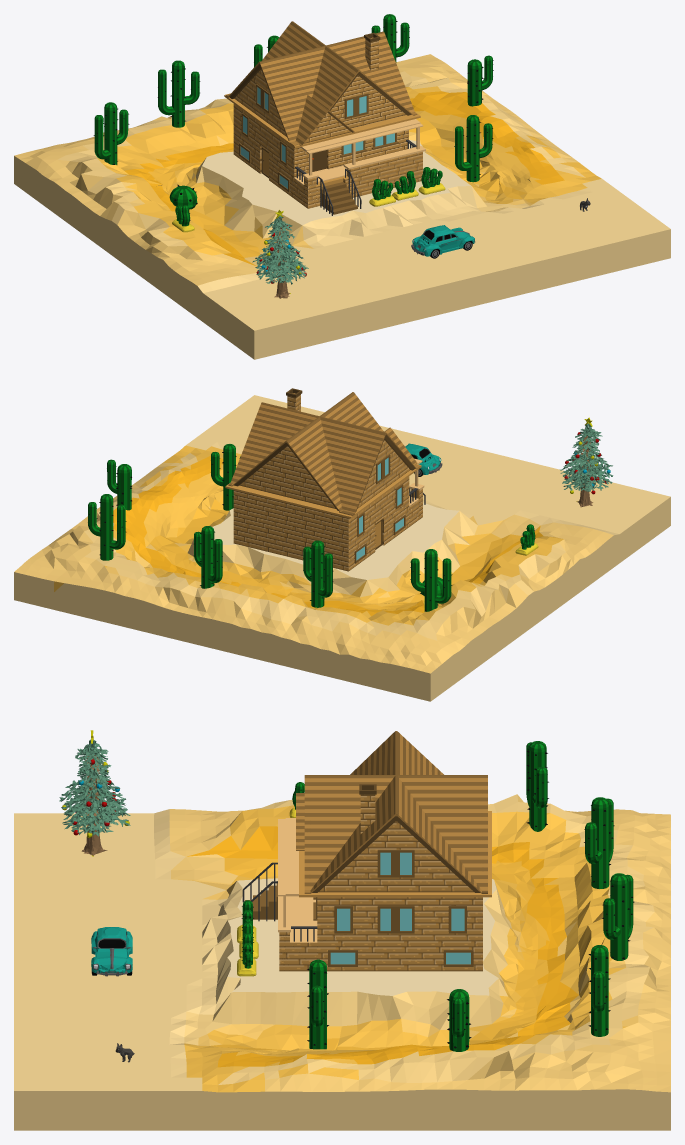
The picture shows the model from 3 angles, top to bottom: view 1: azimuth 30°, elevation 25°; view 2: azimuth 150°, elevation 25°; view 3: azimuth 270°, elevation 25°; orthographic projection. The views are drawn at different scales.
Parts seen in each view (by area): view 1: Cube.001, Cube.508, OBJRANDOM_CHRISTMAS_TREE, Cylinder.037, Cylinder.044, Cylinder.045, VEHICLES_VOLKSWAGEN, Cylinder.038, Cylinder.042, Cylinder.039, Cylinder.041, Sphere.023 (+1 smaller); view 2: Cube.001, Cube.508, OBJRANDOM_CHRISTMAS_TREE, Cylinder.042, Cylinder.045, Cylinder.044, Cylinder.043, Cylinder.037, Cylinder.038, VEHICLES_VOLKSWAGEN; view 3: Cube.001, Cube.508, OBJRANDOM_CHRISTMAS_TREE, Cylinder.043, Cylinder.044, VEHICLES_VOLKSWAGEN, Cylinder.045, Cylinder.042, Cylinder.037, Cylinder.038, Cylinder.041.
Part boxes in pixels (left/top/right/bottom): Cube.001: left=14, top=54, right=670, bottom=359; Cube.508: left=224, top=21, right=425, bottom=215; OBJRANDOM_CHRISTMAS_TREE: left=252, top=210, right=308, bottom=298; Cylinder.037: left=454, top=115, right=493, bottom=182; Cylinder.044: left=157, top=60, right=200, bottom=127; Cylinder.045: left=93, top=102, right=129, bottom=164; VEHICLES_VOLKSWAGEN: left=411, top=225, right=475, bottom=258; Cylinder.038: left=467, top=55, right=493, bottom=106; Cylinder.042: left=371, top=14, right=409, bottom=62; Cylinder.039: left=369, top=179, right=395, bottom=206; Cylinder.041: left=418, top=167, right=445, bottom=194; Sphere.023: left=169, top=184, right=197, bottom=209; Cube.001: left=14, top=395, right=670, bottom=701; Cube.508: left=225, top=388, right=425, bottom=571; OBJRANDOM_CHRISTMAS_TREE: left=560, top=417, right=613, bottom=507; Cylinder.042: left=88, top=494, right=126, bottom=560; Cylinder.045: left=410, top=549, right=452, bottom=611; Cylinder.044: left=303, top=540, right=333, bottom=607; Cylinder.043: left=193, top=526, right=222, bottom=588; Cylinder.037: left=211, top=444, right=240, bottom=510; Cylinder.038: left=107, top=459, right=131, bottom=510; VEHICLES_VOLKSWAGEN: left=405, top=443, right=442, bottom=476; Cube.001: left=14, top=794, right=670, bottom=1130; Cube.508: left=242, top=731, right=491, bottom=971; OBJRANDOM_CHRISTMAS_TREE: left=59, top=730, right=130, bottom=856; Cylinder.043: left=602, top=873, right=634, bottom=960; Cylinder.044: left=584, top=797, right=614, bottom=888; VEHICLES_VOLKSWAGEN: left=91, top=927, right=132, bottom=976; Cylinder.045: left=526, top=741, right=548, bottom=831; Cylinder.042: left=588, top=945, right=610, bottom=1036; Cylinder.037: left=307, top=959, right=328, bottom=1049; Cylinder.038: left=447, top=989, right=471, bottom=1051; Cylinder.041: left=237, top=933, right=256, bottom=976.
Bounding box in the file's own units: 4002 × 1779 × 4001.
34 materials, 3 textured.
